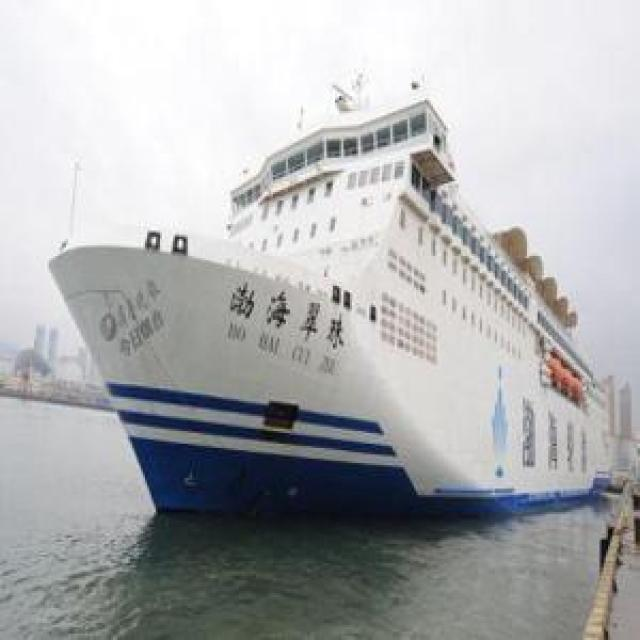passenger ship: (46, 91, 611, 503)
